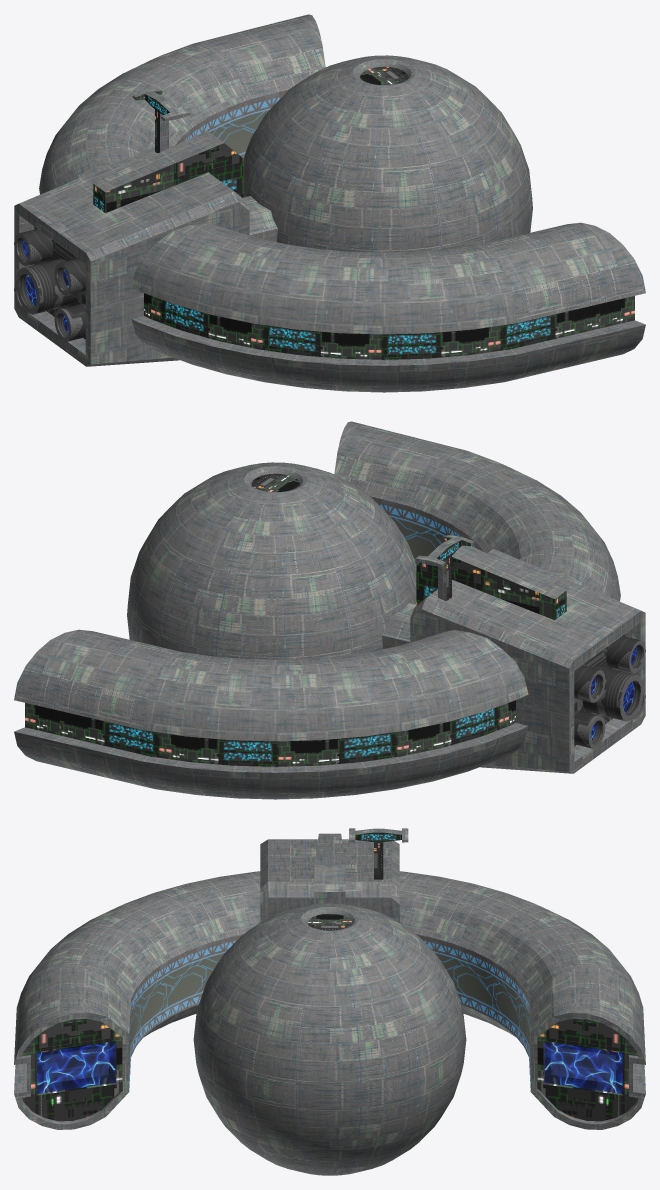
File: orbital-station.glb
3 views of the same model, one above another, from view 1: azimuth 30°, elevation 25°; view 2: azimuth 150°, elevation 25°; view 3: azimuth 270°, elevation 25° (orthographic). The views are drawn at different scales.
Visible parts, largest first — view 1: Station; view 2: Station; view 3: Station, Gate+engine.
Part boxes in pixels (left/top/right/bottom): Station: left=14, top=14, right=645, bottom=392; Station: left=14, top=421, right=645, bottom=799; Station: left=14, top=828, right=645, bottom=1175; Gate+engine: left=37, top=1041, right=622, bottom=1093.
Size of the model in its own units: 2 by 1.04 by 2.47.
2 materials, 2 textured.
